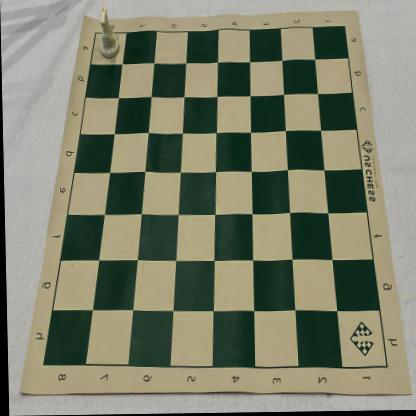white-knight: (98, 6, 120, 60)
